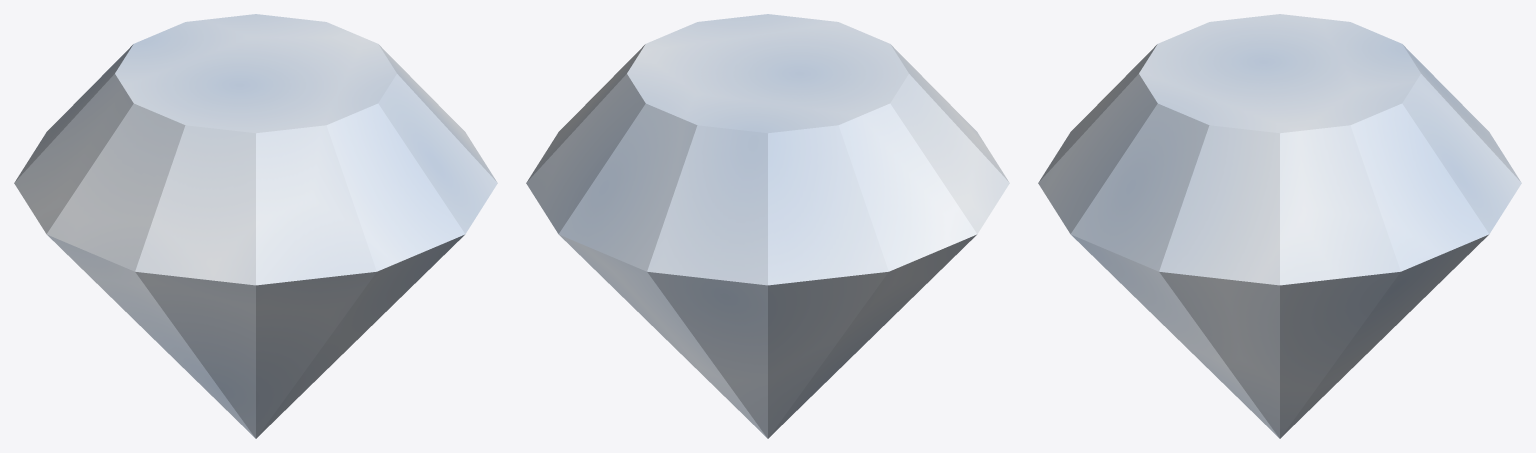
Rendered from mdl_pieza_diamante.fbx.
The picture shows the model from 3 angles, left to right: view 1: azimuth 30°, elevation 25°; view 2: azimuth 150°, elevation 25°; view 3: azimuth 270°, elevation 25°; orthographic projection.
Parts seen in each view (by area): view 1: gema_diamante; view 2: gema_diamante; view 3: gema_diamante.
Boxes of the visible parts, x1,y1,x2,y2 form: gema_diamante: [14, 14, 497, 438]; gema_diamante: [526, 14, 1009, 438]; gema_diamante: [1038, 14, 1521, 438].
Bounding box in the file's own units: 120 × 100 × 120.
